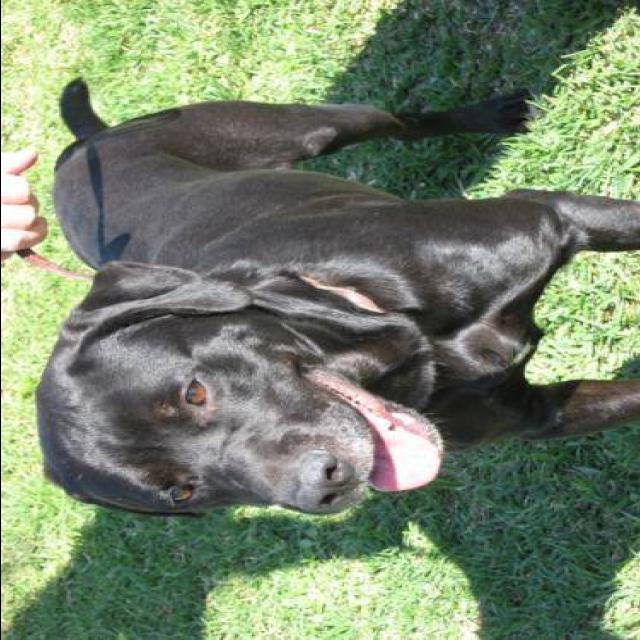dog: (17, 70, 640, 524)
